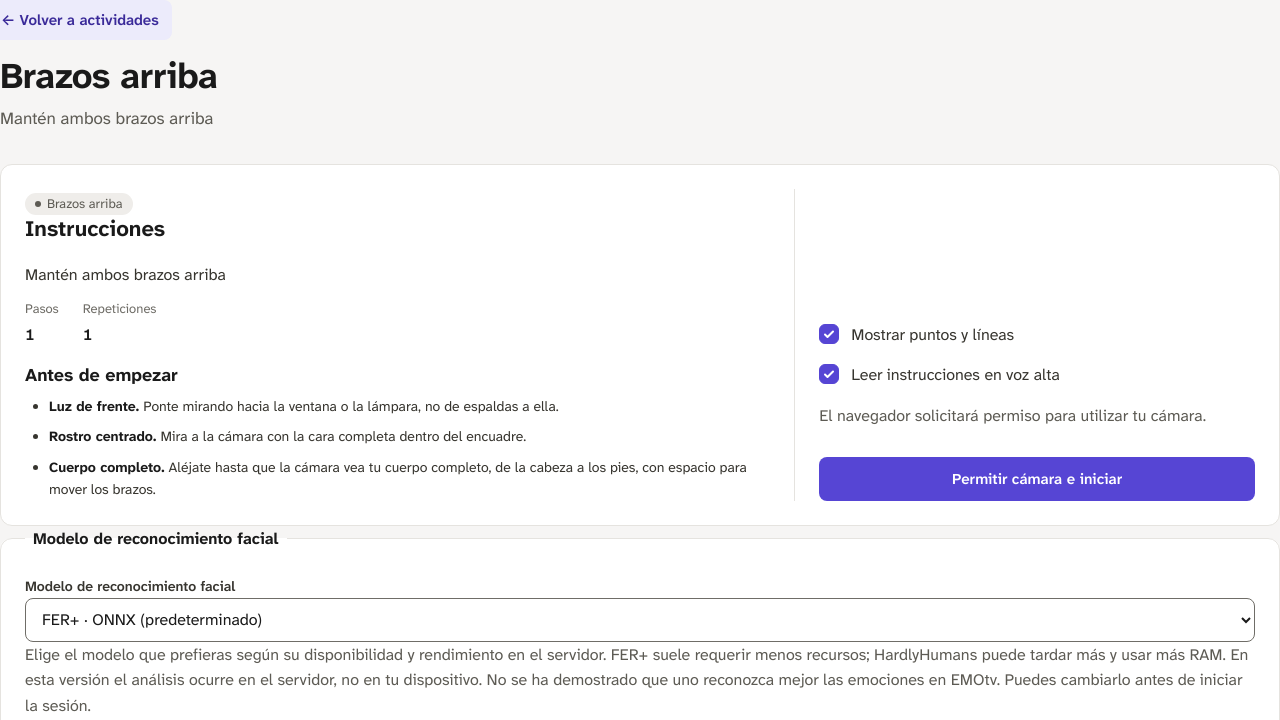
Test: cámara y ciclo de actividad › muestra advertencias para HardlyHumans
Select "HardlyHumans · ViT/PyTorch (experimental)" in the dropdown. click: (640, 620)
box: [25,598,1255,642]
(page scrolled)
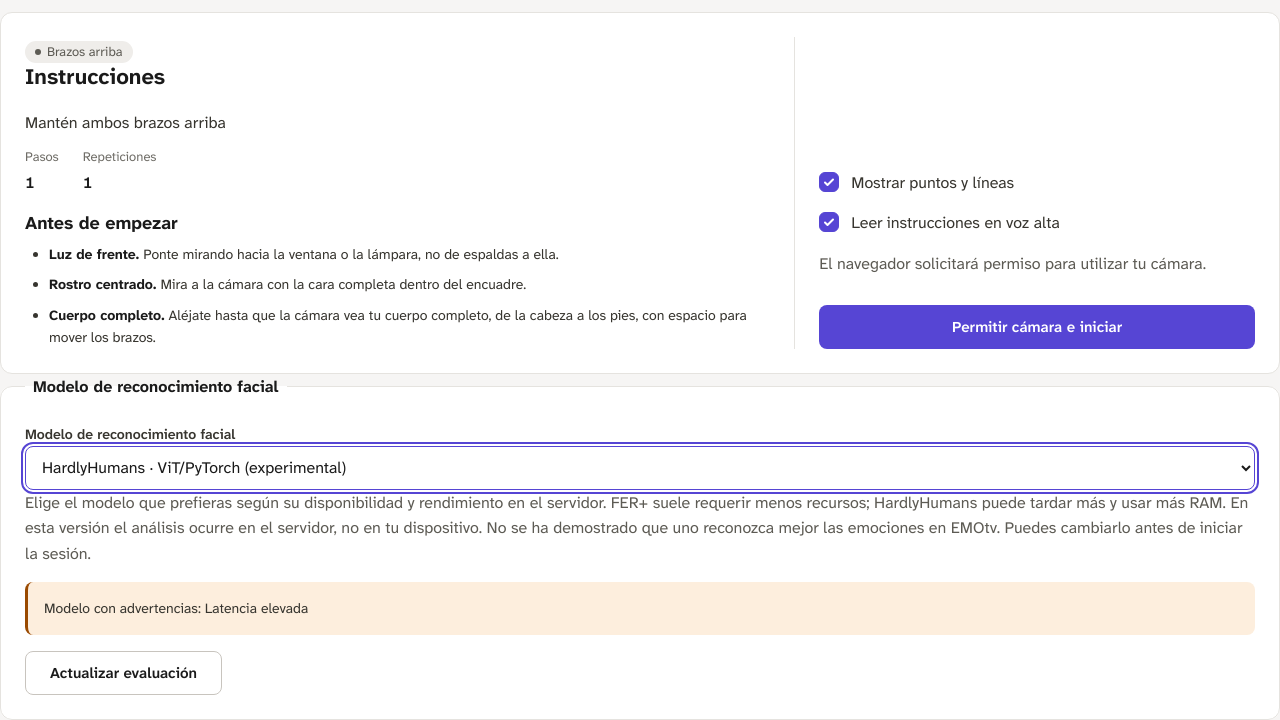
Expected: the text "Modelo con advertencias: Latencia elevada" is shown, [25,582,1255,635]
